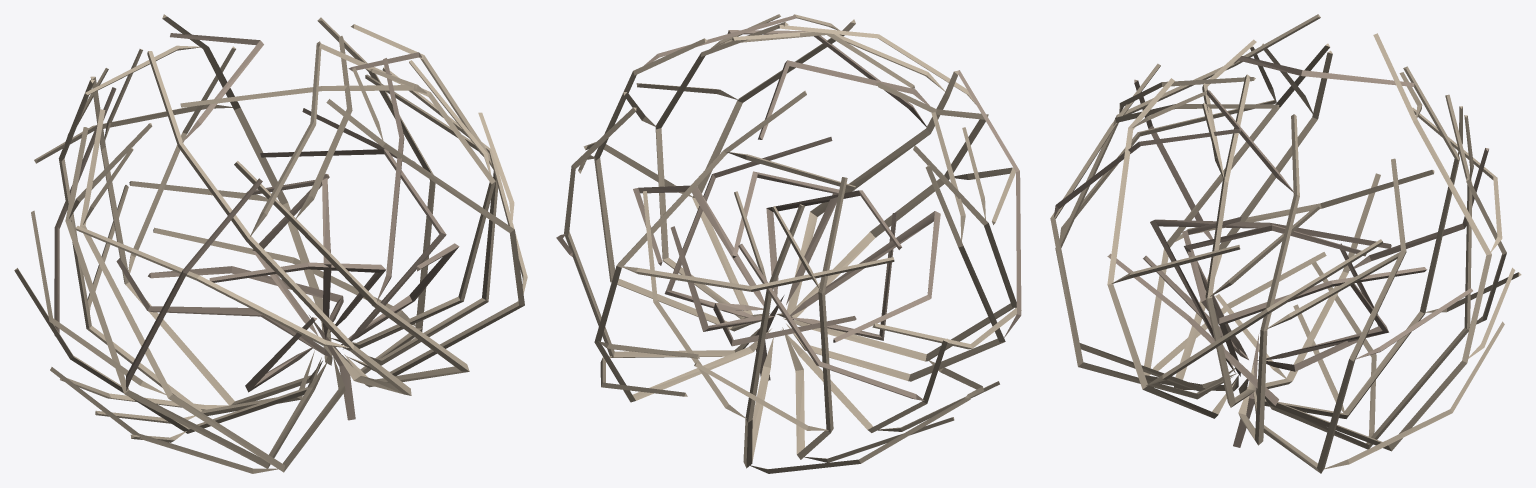
The model's file is weed.glb.
3 renders of one model, left to right at view 1: azimuth 30°, elevation 25°; view 2: azimuth 150°, elevation 25°; view 3: azimuth 270°, elevation 25°, orthographic. The views are drawn at different scales.
Parts seen in each view (by area): view 1: weed; view 2: weed; view 3: weed.
Part boxes in pixels (box(x1,y1,x2,y2)): weed: box(14, 14, 527, 473); weed: box(556, 14, 1021, 473); weed: box(1050, 14, 1521, 473).
Bounding box in the file's own units: 0.8997 × 0.8242 × 0.9096.
